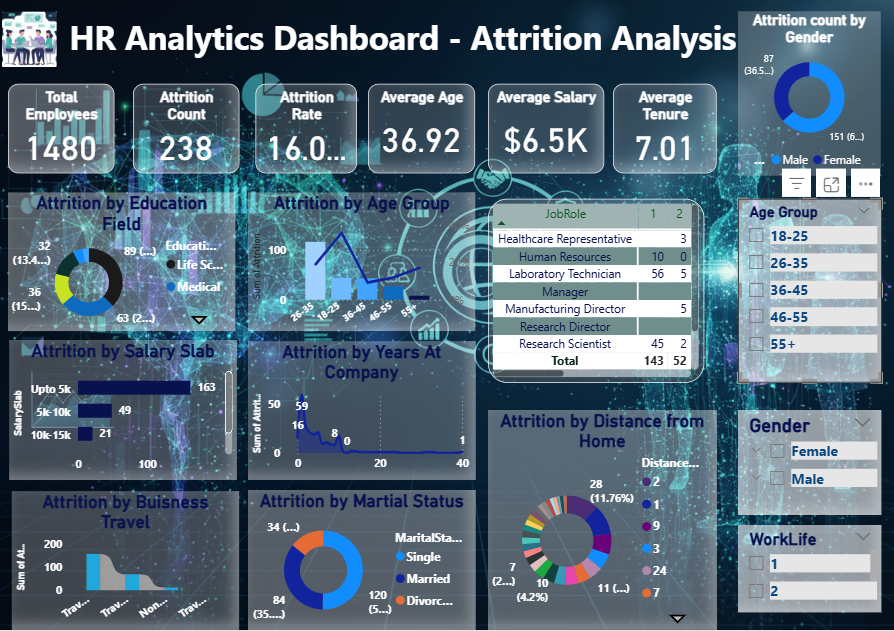

The page's visual inventory and layout, read from the dashboard file:
{"tool":"powerbi","page":{"name":"Page 1","canvas":[1280,720],"ordinal":0},"visuals":[{"type":"textbox","box":[198.3,13.3,790,65],"z":0},{"type":"image","box":[106.7,8.3,108.3,73.3],"z":1000},{"type":"card","title":"Total Employees","fields":{"Values":["CountNonNull(HR_Analytics.EmpID)"]},"box":[137.5,95,121.2,102.5],"z":2000},{"type":"card","title":"Attrition Count","fields":{"Values":["Sum(HR_Analytics.Attrition count)"]},"box":[280,95,121.2,102.5],"z":3000},{"type":"card","title":"Attrition Rate","fields":{"Values":["HR_Analytics.Attrition Rate"]},"box":[420,95,116.2,102.5],"z":4000},{"type":"card","title":"Average Age","fields":{"Values":["Avg(HR_Analytics.Average age)"]},"box":[548.8,95,122.5,102.5],"z":5000},{"type":"card","title":"Average Salary","fields":{"Values":["HR_Analytics.Average Salary"]},"box":[686.2,95,132.5,102.5],"z":6000},{"type":"card","title":"Average Tenure","fields":{"Values":["Avg(HR_Analytics.YearsAtCompany)"]},"box":[828.8,95,118.8,102.5],"z":7000},{"type":"donutChart","title":"Attrition count by Gender","fields":{"Category":["HR_Analytics.Gender"],"Y":["Sum(HR_Analytics.Attrition count)"]},"box":[971.7,13.3,163.3,188.3],"z":8000},{"type":"donutChart","title":" Attrition  by Education Field","fields":{"Category":["HR_Analytics.EducationField"],"Y":["Sum(HR_Analytics.Attrition count)"]},"box":[137.5,220,260,158.8],"z":9000},{"type":"lineStackedColumnComboChart","title":" Attrition by Age Group","fields":{"Category":["HR_Analytics.AgeGroup"],"Y":["Sum(HR_Analytics.Attrition count)"],"Y2":["HR_Analytics.Attrition Rate"]},"box":[411.2,220,260,158.8],"z":10000},{"type":"areaChart","title":" Attrition by Years At Company","fields":{"Category":["HR_Analytics.YearsAtCompany"],"Y":["Sum(HR_Analytics.Attrition count)"]},"box":[412,390,260,158],"z":10001},{"type":"ribbonChart","title":" Attrition  by Buisness Travel","fields":{"Category":["HR_Analytics.BusinessTravel"],"Y":["Sum(HR_Analytics.Attrition count)"]},"box":[141.7,561.7,260,158.3],"z":10002},{"type":"donutChart","title":" Attrition by Martial Status","fields":{"Category":["HR_Analytics.MaritalStatus"],"Y":["Sum(HR_Analytics.Attrition count)"]},"box":[412,560,260,160],"z":10003},{"type":"clusteredBarChart","title":" Attrition by Salary Slab","fields":{"Category":["HR_Analytics.SalarySlab"],"Y":["Sum(HR_Analytics.Attrition count)"]},"box":[138,388,260,160],"z":10004},{"type":"pivotTable","fields":{"Rows":["HR_Analytics.JobRole"],"Columns":["HR_Analytics.JobLevel"],"Values":["Sum(HR_Analytics.Attrition count)"]},"box":[685.7,227.1,247.1,210],"z":10005},{"type":"slicer","fields":{"Values":["HR_Analytics.AgeGroup"]},"box":[971.4,227.1,164.3,210],"z":10006},{"type":"slicer","fields":{"Values":["HR_Analytics.Gender","HR_Analytics.JobSatisfaction"]},"box":[971.4,468.6,164.3,120],"z":10008},{"type":"slicer","fields":{"Values":["HR_Analytics.WorkLifeBalance"]},"box":[971.4,600,164.3,100],"z":10009},{"type":"donutChart","title":" Attrition  by Distance from Home","fields":{"Y":["Sum(HR_Analytics.Attrition count)"],"Category":["HR_Analytics.DistanceFromHome"]},"box":[685.7,468.6,261.4,251.4],"z":10010}]}

Visuals, with their boxes on the page's 1280x720 design canvas (x1, y1, x2, y2). These are canvas units, not pixel positions in the 894x631 screenshot, which may show the page scaled, cropped or inside an application window:
textbox: (left=198, top=13, right=988, bottom=78)
image: (left=107, top=8, right=215, bottom=82)
"Total Employees" card: (left=138, top=95, right=259, bottom=198)
"Attrition Count" card: (left=280, top=95, right=401, bottom=198)
"Attrition Rate" card: (left=420, top=95, right=536, bottom=198)
"Average Age" card: (left=549, top=95, right=671, bottom=198)
"Average Salary" card: (left=686, top=95, right=819, bottom=198)
"Average Tenure" card: (left=829, top=95, right=948, bottom=198)
"Attrition count by Gender" donutChart: (left=972, top=13, right=1135, bottom=202)
" Attrition  by Education Field" donutChart: (left=138, top=220, right=398, bottom=379)
" Attrition by Age Group" lineStackedColumnComboChart: (left=411, top=220, right=671, bottom=379)
" Attrition by Years At Company" areaChart: (left=412, top=390, right=672, bottom=548)
" Attrition  by Buisness Travel" ribbonChart: (left=142, top=562, right=402, bottom=720)
" Attrition by Martial Status" donutChart: (left=412, top=560, right=672, bottom=720)
" Attrition by Salary Slab" clusteredBarChart: (left=138, top=388, right=398, bottom=548)
pivotTable - HR_Analytics.JobRole x HR_Analytics.JobLevel: (left=686, top=227, right=933, bottom=437)
slicer - HR_Analytics.AgeGroup: (left=971, top=227, right=1136, bottom=437)
slicer - HR_Analytics.Gender x HR_Analytics.JobSatisfaction: (left=971, top=469, right=1136, bottom=589)
slicer - HR_Analytics.WorkLifeBalance: (left=971, top=600, right=1136, bottom=700)
" Attrition  by Distance from Home" donutChart: (left=686, top=469, right=947, bottom=720)
